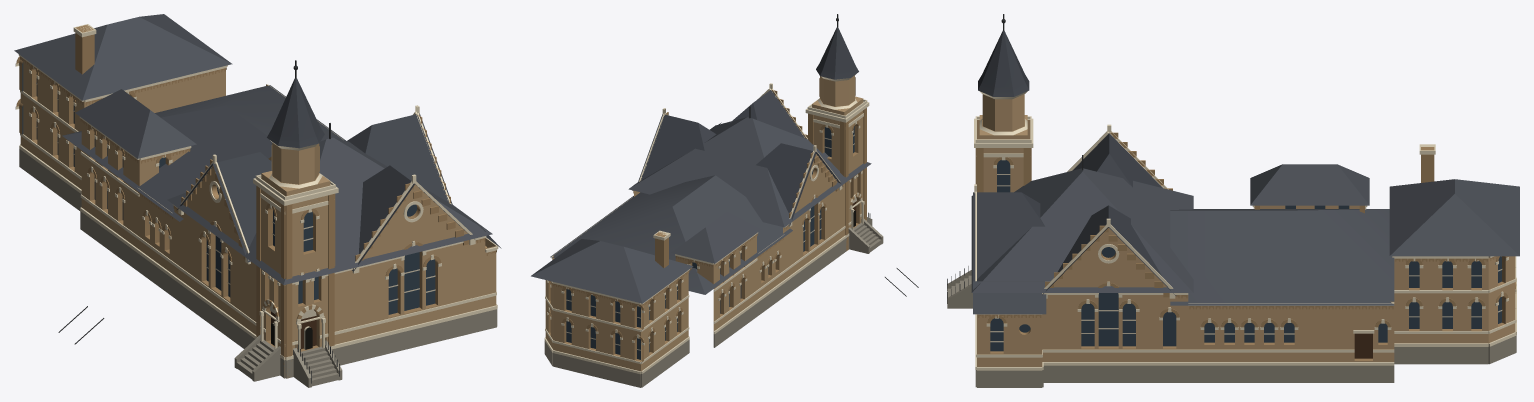
The model's file is ch-first-christian-1961.glb.
3 views of the same model, side by side, from view 1: azimuth 30°, elevation 25°; view 2: azimuth 150°, elevation 25°; view 3: azimuth 270°, elevation 25° (orthographic). The views are drawn at different scales.
Visible parts, largest first — view 1: ch_brick, ch_slate, ch_brick2, ch_slate2, ch_trim, ch_base, ch_stain; view 2: ch_slate, ch_brick, ch_slate2, ch_brick2, ch_trim, ch_base, ch_stain; view 3: ch_slate, ch_brick, ch_base, ch_trim, ch_slate2, ch_stain, ch_brick2, ch_lead, ch_door.
Part boxes in pixels (<box>): ch_brick: <box>20,58,496,354</box>; ch_slate: <box>14,14,501,285</box>; ch_brick2: <box>16,25,496,378</box>; ch_slate2: <box>177,78,474,271</box>; ch_trim: <box>15,24,498,360</box>; ch_base: <box>19,149,497,387</box>; ch_stain: <box>22,62,435,314</box>; ch_slate: <box>531,117,871,303</box>; ch_brick: <box>545,75,863,371</box>; ch_slate2: <box>638,27,858,225</box>; ch_brick2: <box>547,89,866,361</box>; ch_trim: <box>544,74,869,374</box>; ch_base: <box>544,217,883,387</box>; ch_stain: <box>566,126,854,359</box>; ch_slate: <box>971,164,1519,314</box>; ch_brick: <box>977,94,1515,366</box>; ch_base: <box>947,270,1516,387</box>; ch_trim: <box>974,91,1516,370</box>; ch_slate2: <box>973,31,1176,295</box>; ch_stain: <box>990,160,1501,351</box>; ch_brick2: <box>975,132,1515,360</box>; ch_lead: <box>990,174,1502,342</box>; ch_door: <box>1354,333,1372,358</box>.
Bounding box in the file's own units: 29.3 × 23.8 × 43.11.
